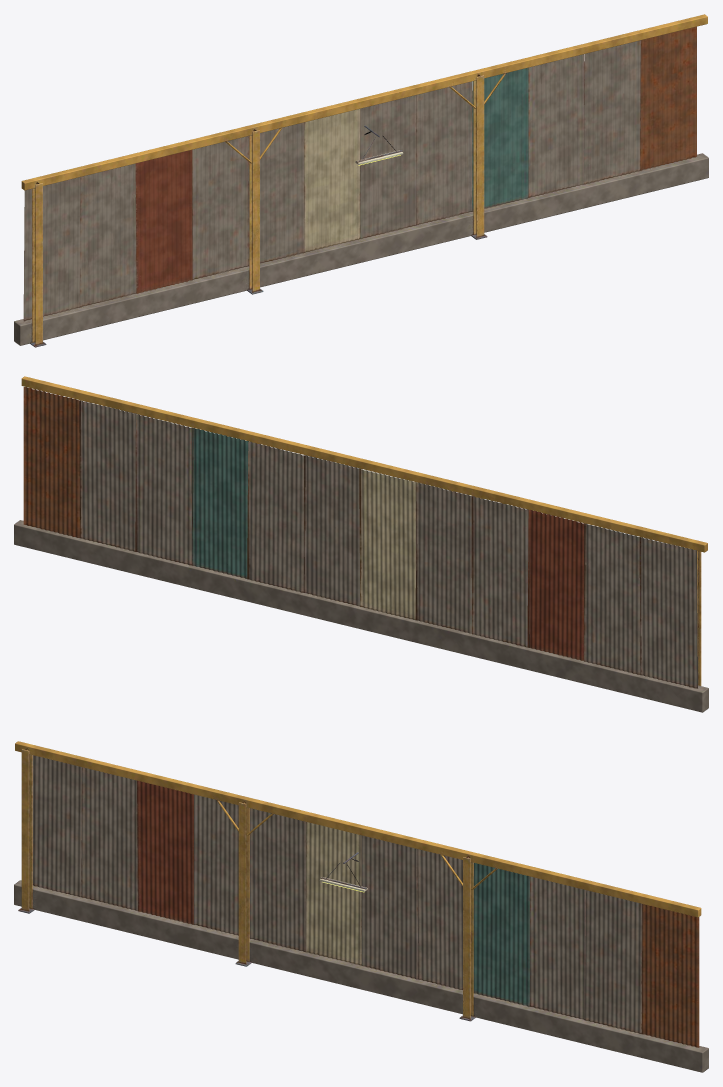
The model's file is ws_wall_back.glb.
3 views of the same model, one above another, from view 1: azimuth 30°, elevation 25°; view 2: azimuth 150°, elevation 25°; view 3: azimuth 330°, elevation 25° (orthographic).
Visible parts, largest first — view 1: wall; view 2: wall; view 3: wall.
Boxes of the visible parts, bbox=[...] form: wall: bbox=[14, 14, 708, 347]; wall: bbox=[14, 376, 708, 712]; wall: bbox=[14, 741, 708, 1072].
Size of the model in its own units: 24.6 by 5.58 by 1.4.
Materials: 2 (1 with a texture image).
